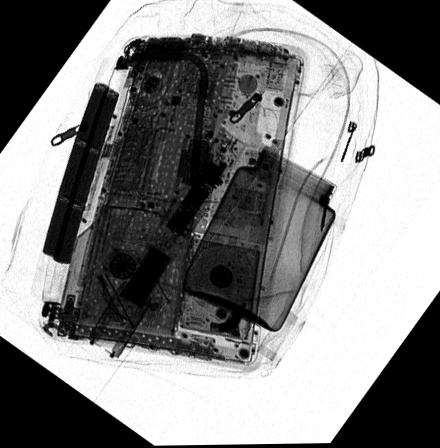Baton: (82, 127, 247, 361)
